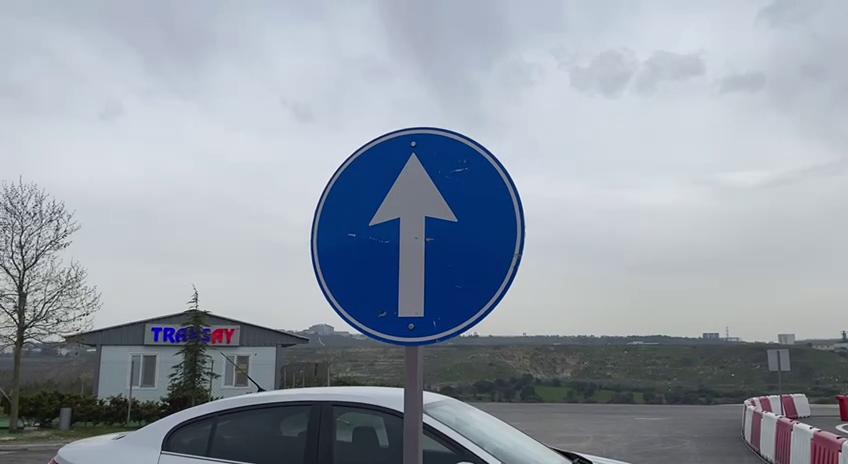forward: (306, 122, 527, 352)
